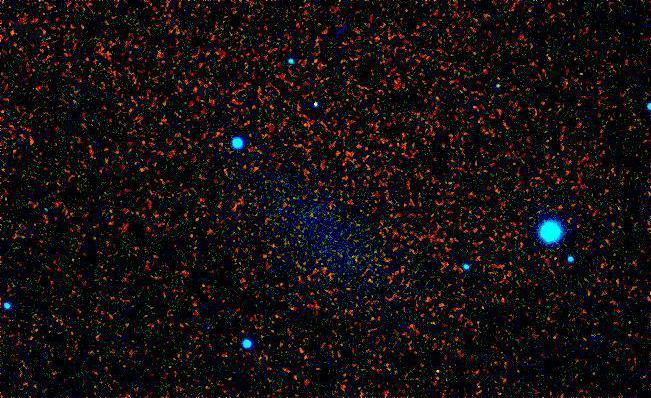star: (426, 359, 456, 389)
